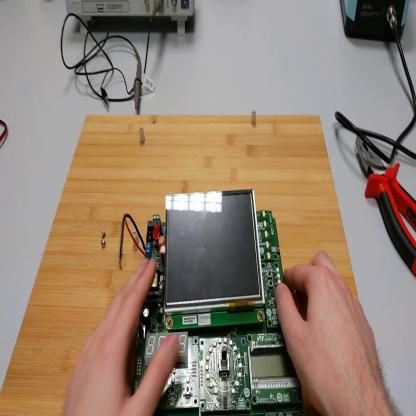hand: (272, 247, 392, 416), (63, 253, 179, 416)
low voltage board: (116, 187, 303, 416)
oscilloscope: (67, 2, 198, 37)
oscilloscope probe tip: (134, 46, 140, 115)
pliers: (356, 128, 416, 276)
welder station: (341, 1, 410, 45)
working area: (2, 107, 359, 415)
